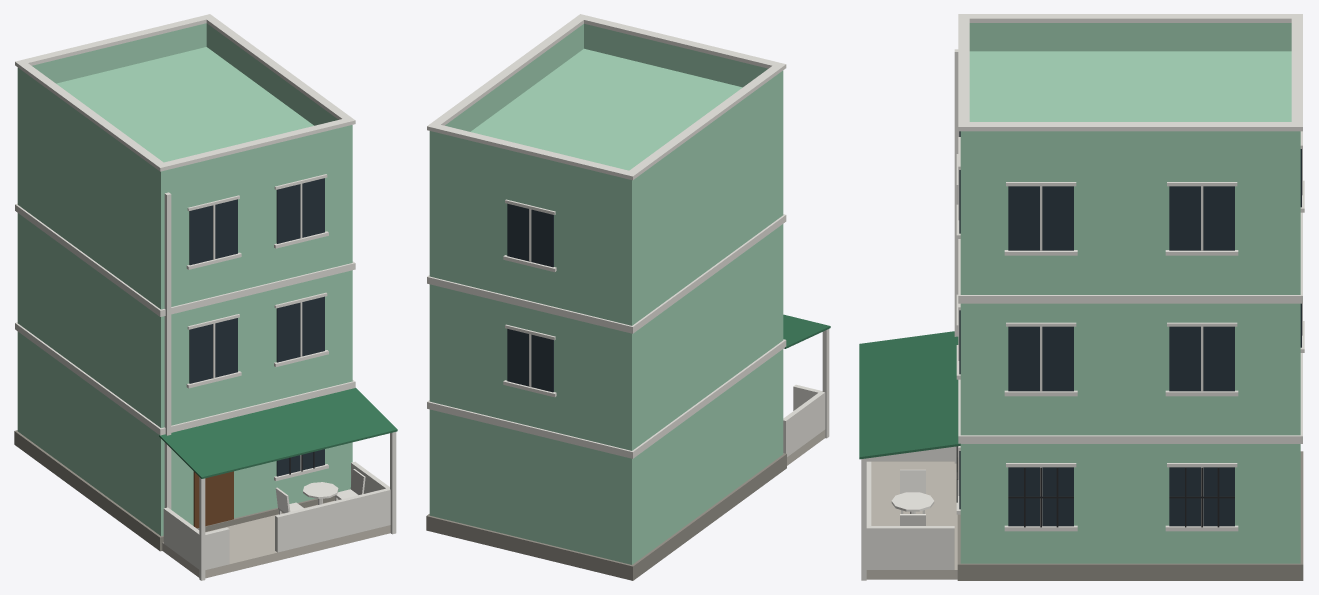
Rendered from BAY_F_Corner_O.glb.
3 renders of one model, left to right at view 1: azimuth 30°, elevation 25°; view 2: azimuth 150°, elevation 25°; view 3: azimuth 270°, elevation 25°, orthographic. The views are drawn at different scales.
Parts seen in each view (by area): view 1: BAY_F_Corner_O; view 2: BAY_F_Corner_O; view 3: BAY_F_Corner_O.
Boxes of the visible parts, <box> form: BAY_F_Corner_O: <box>14,14,397,580</box>; BAY_F_Corner_O: <box>426,14,830,580</box>; BAY_F_Corner_O: <box>859,14,1304,580</box>.
Bounding box in the file's own units: 4.52 × 8.4 × 7.47.
Materials: 1 (1 with a texture image).
